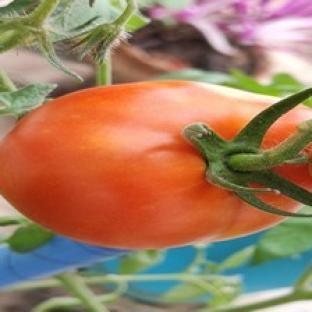Tomato: (0, 81, 282, 249)
